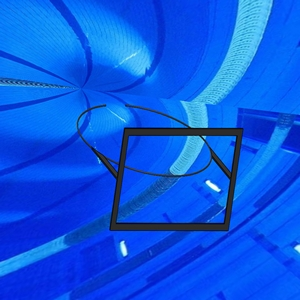circle: (76, 103, 245, 234)
